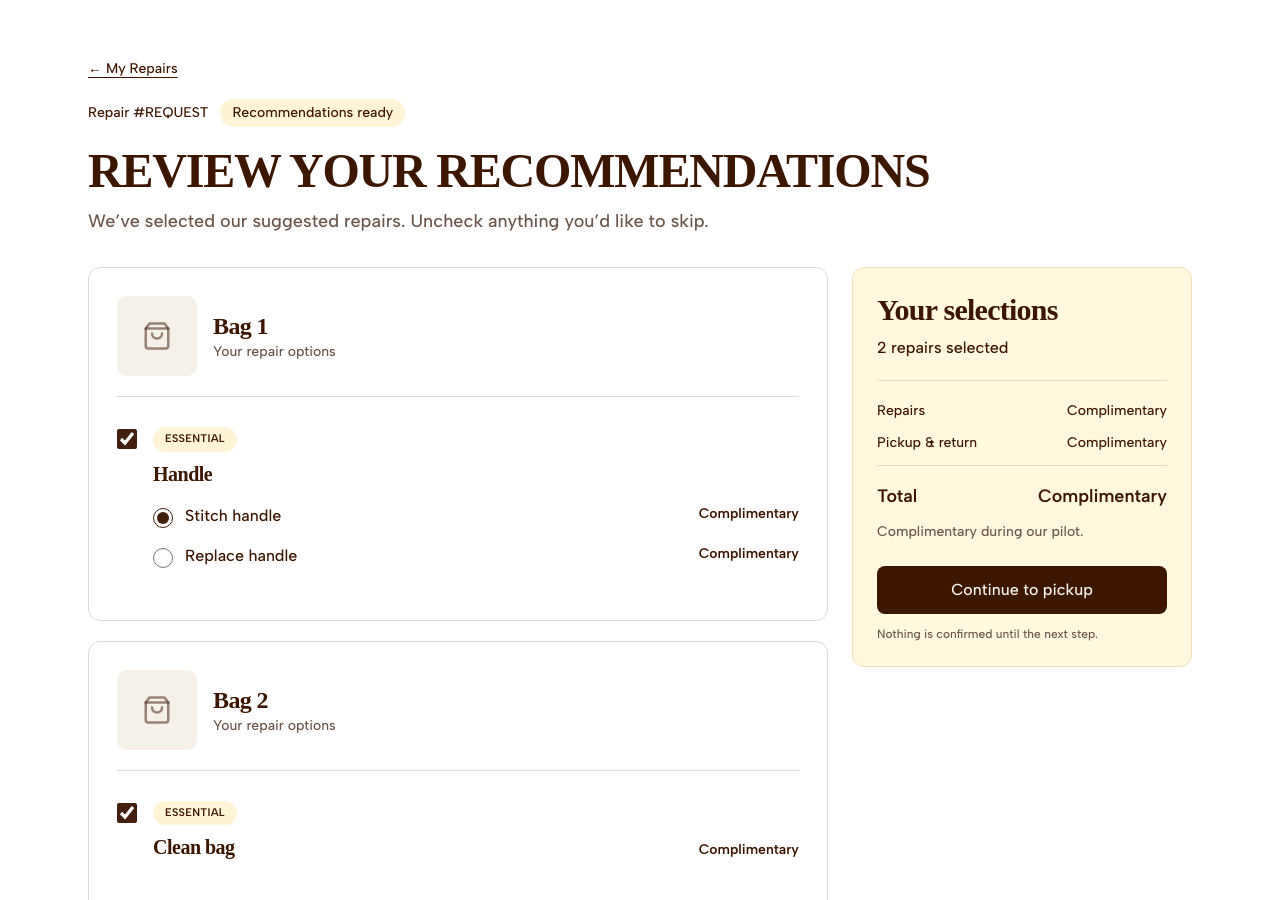
Scenario: email recommendation review › disables pickup when all groups are unchecked and preserves an empty draft on remount
Later steps or results of the test are not shown.
Click the checkbox named "Include Handle": (127, 439) [117,429,137,449]
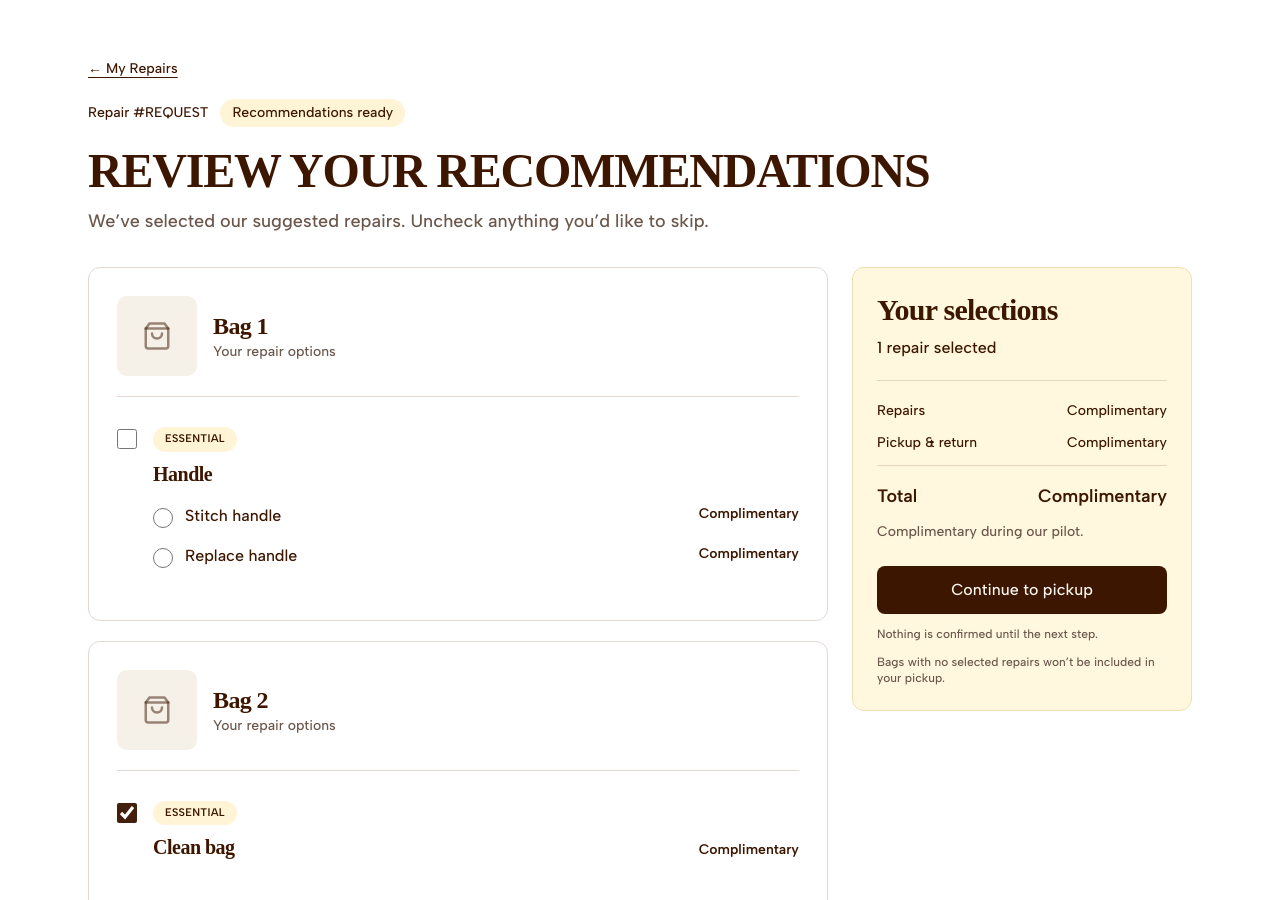
Click the checkbox named "Clean bag": (127, 812) [117,802,137,822]
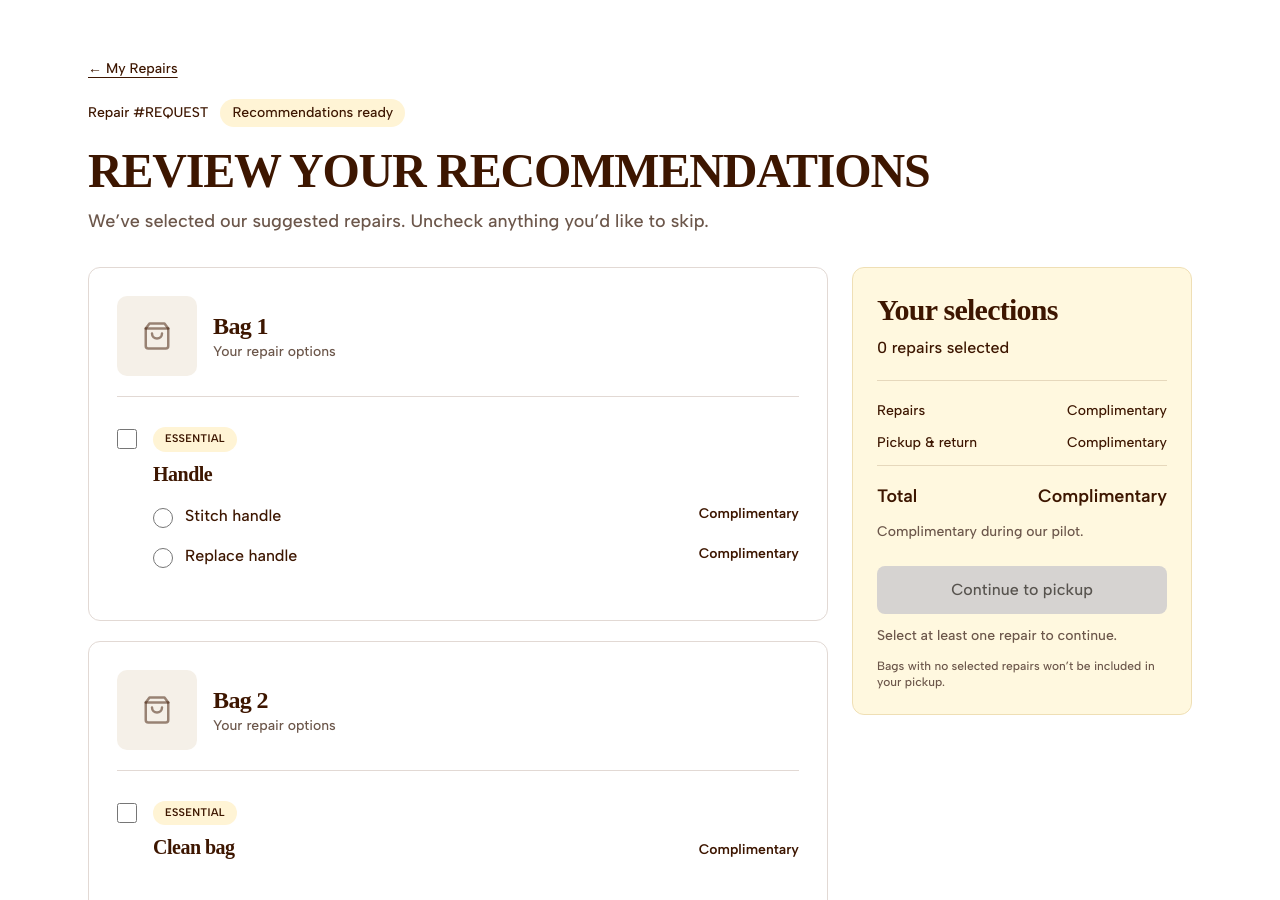
expect the button "Continue to pickup" is disabled: met, box [877,566,1167,614]
